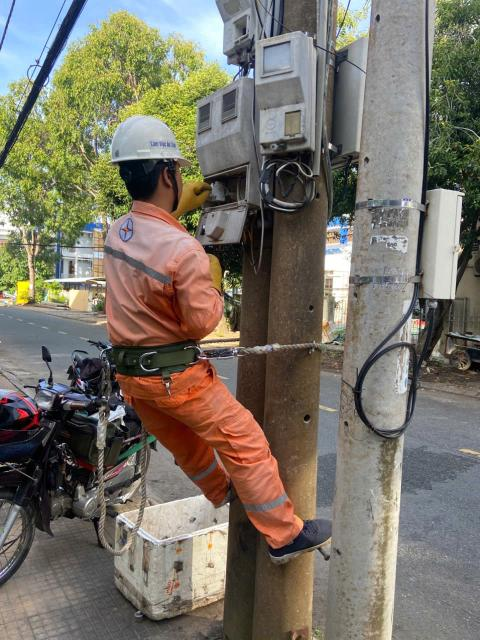gloves: (191, 246, 238, 302), (148, 178, 223, 213)
harness: (80, 310, 263, 383)
helmet: (90, 116, 213, 176)
shoes: (269, 520, 357, 577)
